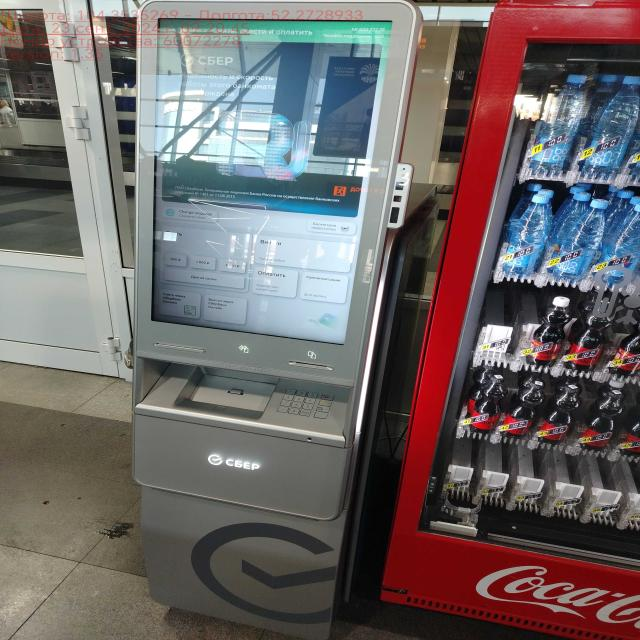bank: (128, 0, 419, 640)
